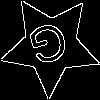G: (25, 20, 74, 76)
